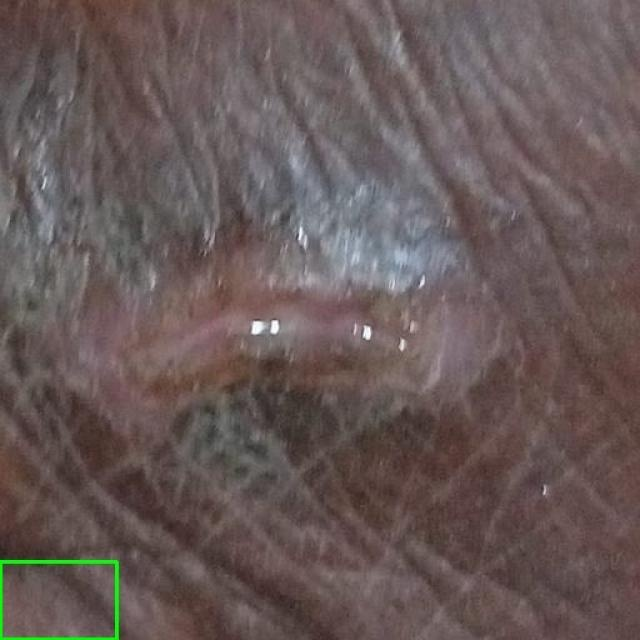Eczema: (0, 561, 118, 639)
